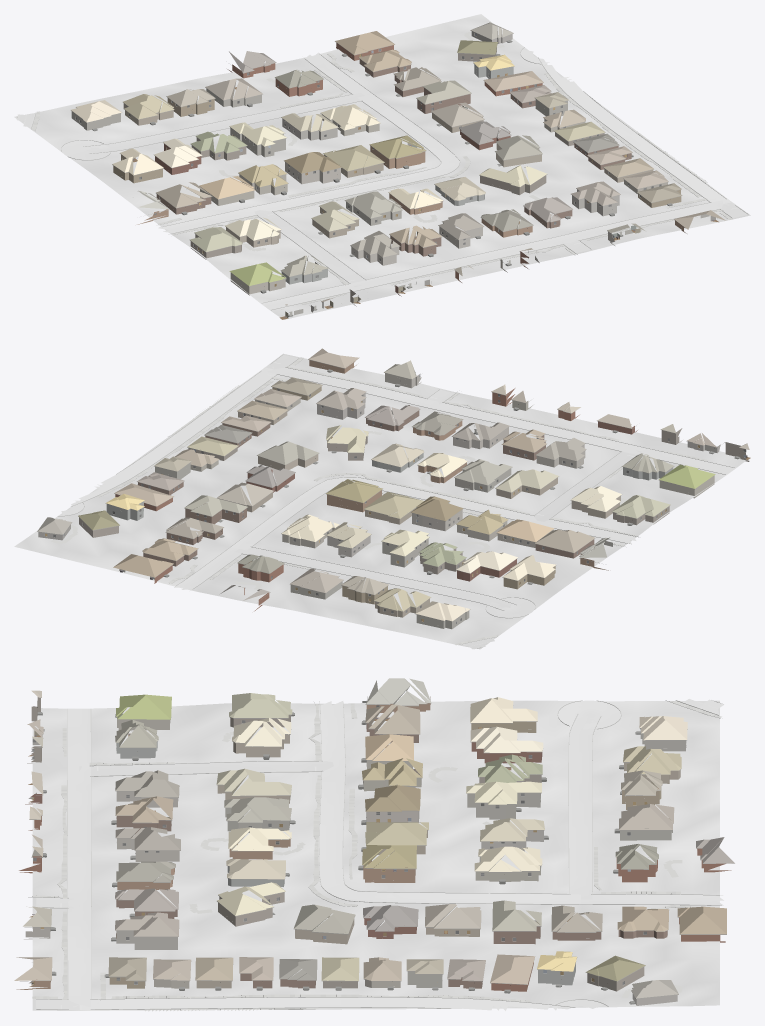
3 views of the same model, one above another, from view 1: azimuth 30°, elevation 25°; view 2: azimuth 150°, elevation 25°; view 3: azimuth 270°, elevation 25° (orthographic). The views are drawn at different scales.
Visible parts, largest first — view 1: ground, roof, concrete, wall, wall_stucco, detail, curb, walk, wall_stone, glass, room; view 2: ground, roof, concrete, wall, wall_stucco, detail, walk, curb, wall_stone, glass; view 3: ground, roof, concrete, wall, wall_stucco, walk, detail, curb, wall_stone.
Boxes of the visible parts, box(x1,y1,x2,y2) form: ground: box(14, 14, 750, 319); roof: box(71, 22, 725, 305); concrete: box(61, 49, 747, 309); wall: box(113, 43, 686, 306); wall_stucco: box(71, 64, 667, 295); detail: box(71, 30, 717, 316); curb: box(17, 47, 748, 310); walk: box(31, 31, 732, 304); wall_stone: box(282, 31, 619, 312); glass: box(75, 48, 661, 280); room: box(133, 50, 718, 319); ground: box(14, 353, 745, 649); roof: box(37, 348, 749, 621); concrete: box(61, 355, 734, 617); wall: box(79, 360, 749, 617); wall_stucco: box(106, 373, 714, 629); detail: box(37, 359, 746, 624); walk: box(51, 357, 706, 645); curb: box(58, 354, 734, 648); wall_stone: box(38, 393, 720, 557); glass: box(53, 388, 745, 624); ground: box(32, 700, 719, 1010); roof: box(14, 678, 734, 998); concrete: box(36, 700, 723, 1010); wall: box(16, 696, 731, 991); wall_stucco: box(24, 717, 686, 988); walk: box(32, 700, 721, 1011); detail: box(20, 696, 734, 1004); curb: box(28, 700, 722, 1009); wall_stone: box(32, 734, 677, 1005).
Size of the model in its own units: 262 by 17.95 by 268.
